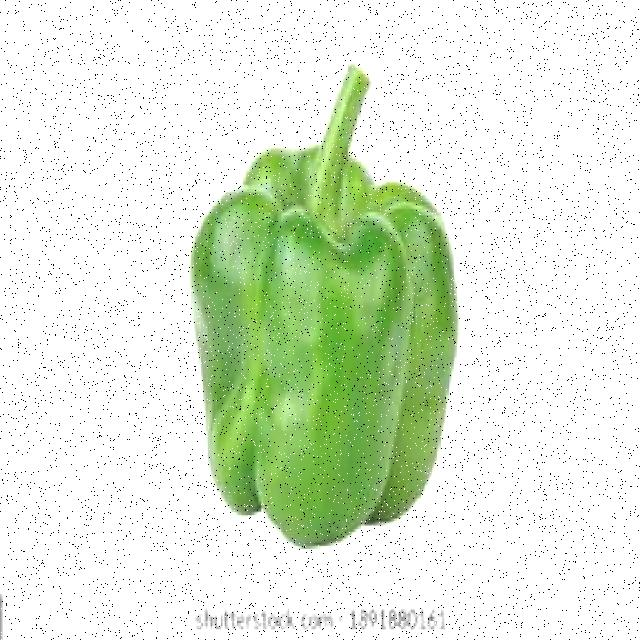Bell Pepper: (172, 59, 478, 566)
